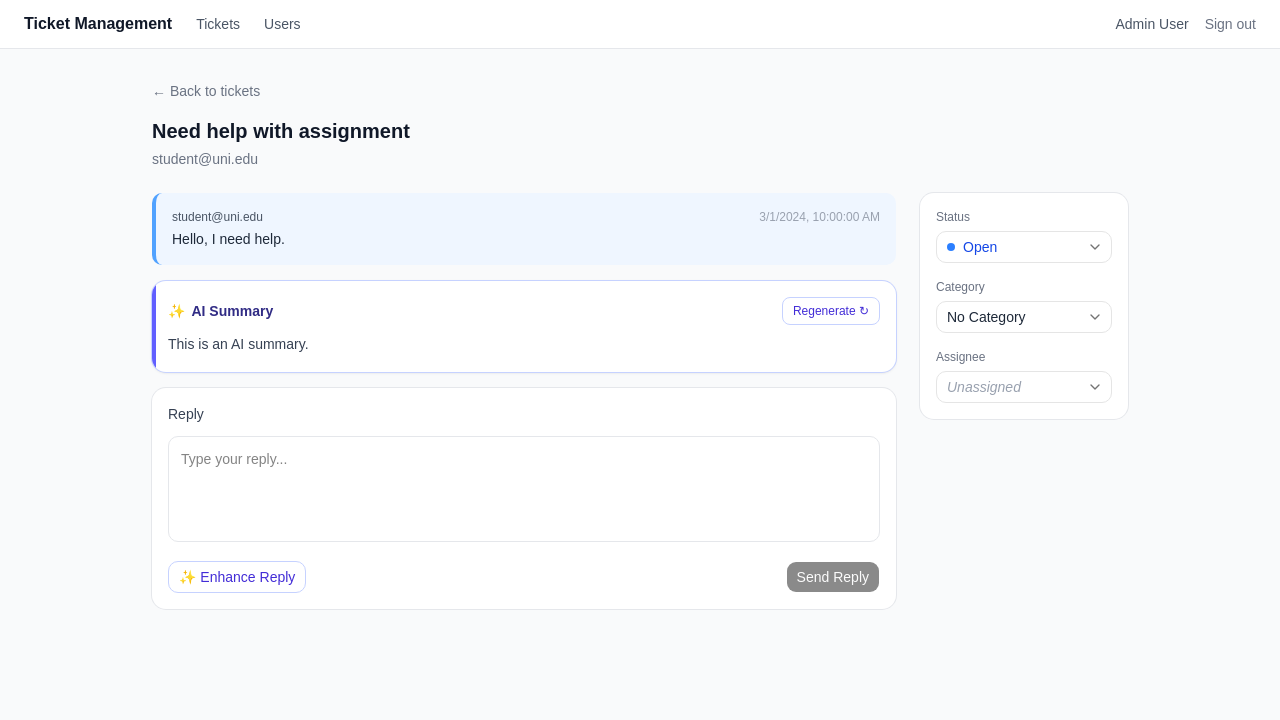
Scenario: TicketDetailPage › Enhance Reply › populates textarea with enhancedReply on success
Click the button "✨ Enhance Reply". click: coordinates (237, 577)
box: [168,561,306,593]
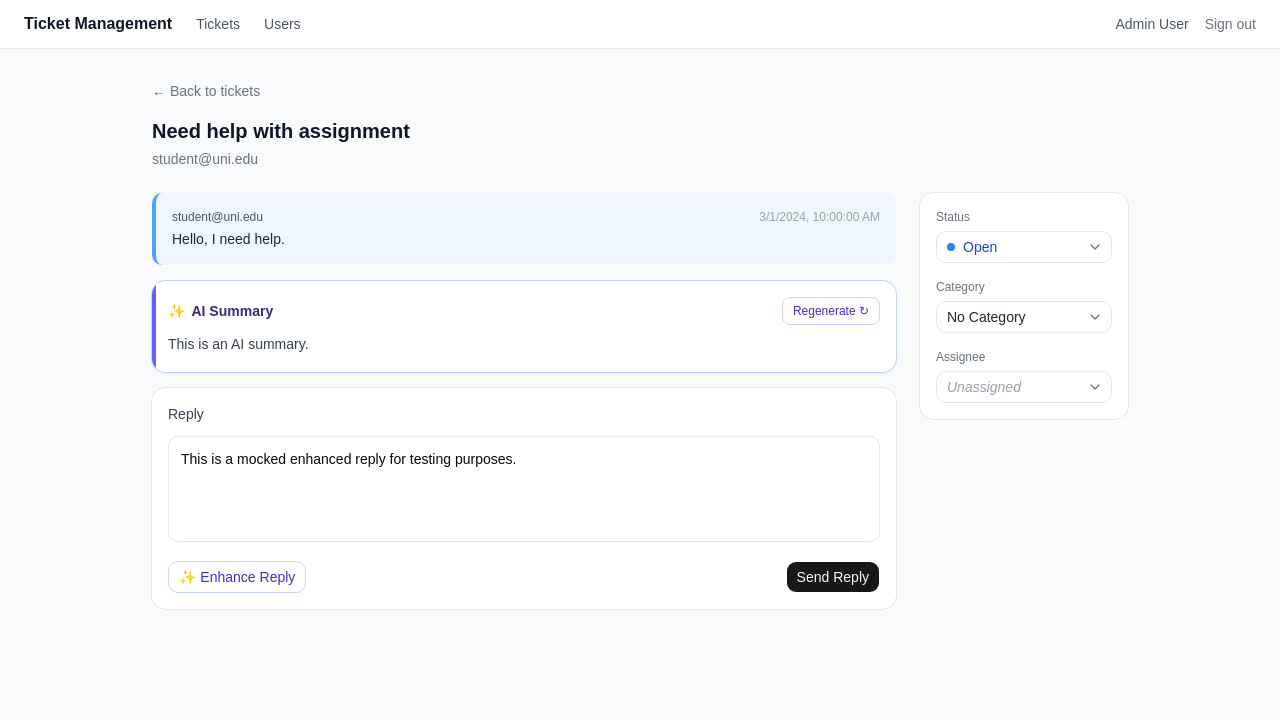
Check: the text box named "reply" holds "This is a mocked enhanced reply for testing purposes.", box [168,436,880,542]
